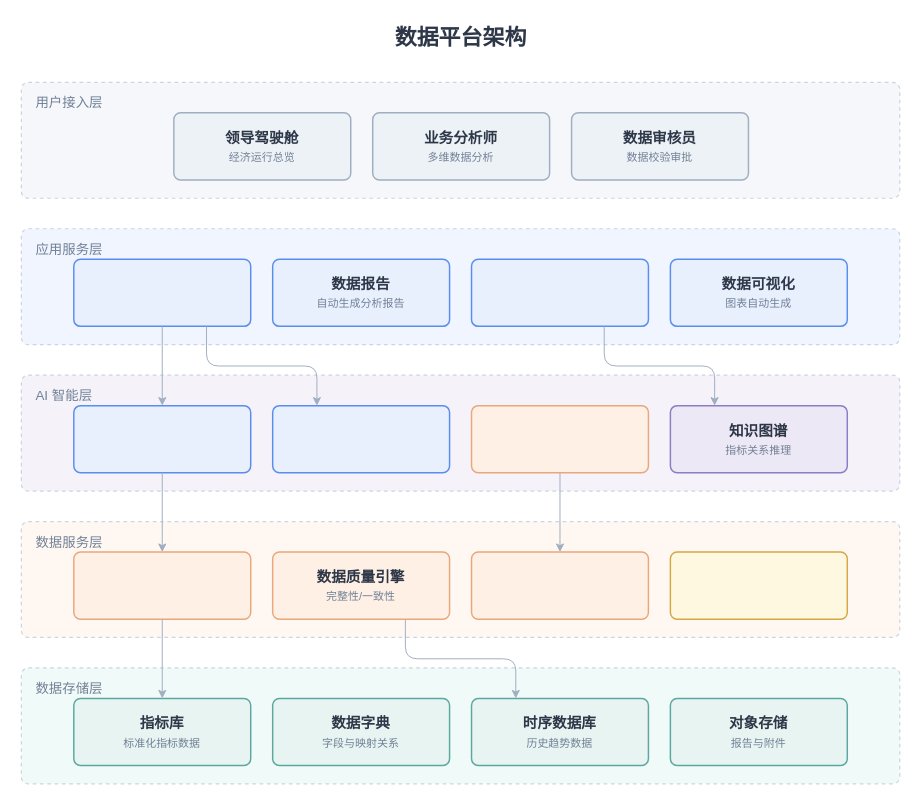
The diagram is 921 pixels wide and 805 high, and some of its shapes have lost their labels. Each missing label, with the centre of its shape:
LLM 推理 结果解读与归因: the point at 559,438
NL2Code 自然语言转 Python: the point at 360,438
NL2SQL 自然语言转 SQL: the point at 161,438
元数据管理 指标定义与口径: the point at 559,585
指标计算引擎 同比/环比/占比: the point at 161,585
智能问答 自然语言数据查询: the point at 161,292
权限控制 数据分级访问: the point at 758,585
监测预警 异常指标实时告警: the point at 559,292
